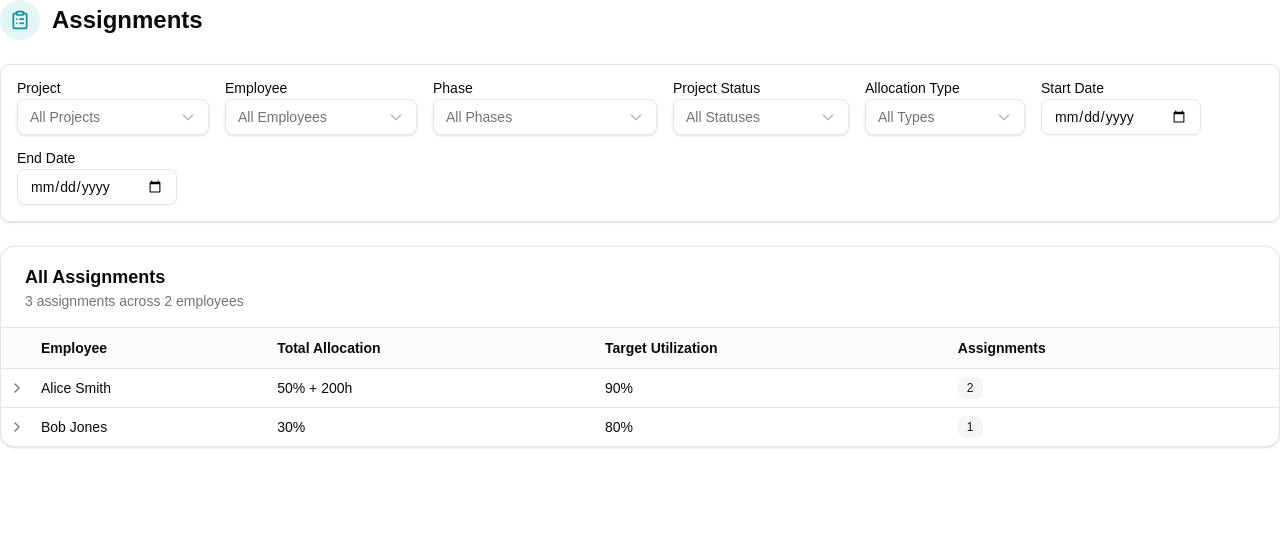
Test case: Assignments Page (non-admin) › should hide delete buttons for non-admin users
Click the row with test id "employee-group-emp-1": x=640, y=388 x1=1 y1=368 x2=1279 y2=407
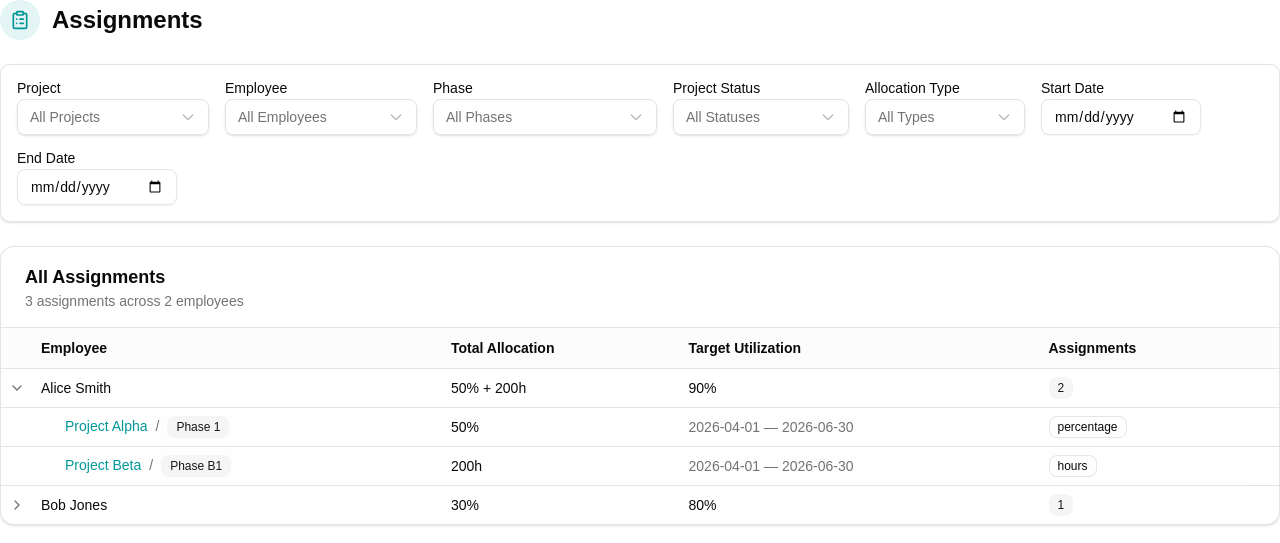
Result: the row with test id "assignment-row-assign-1" is shown at x1=1 y1=407 x2=1279 y2=446
